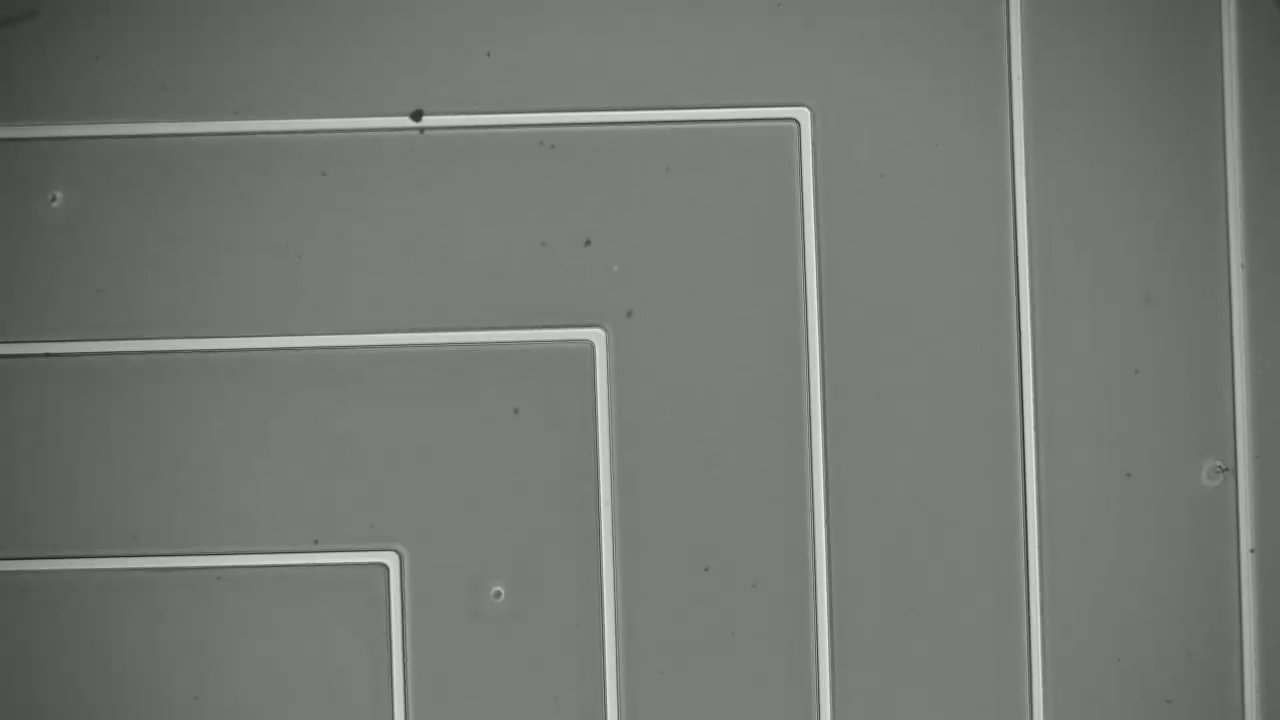stains_enbedded: (404, 105, 432, 134)
